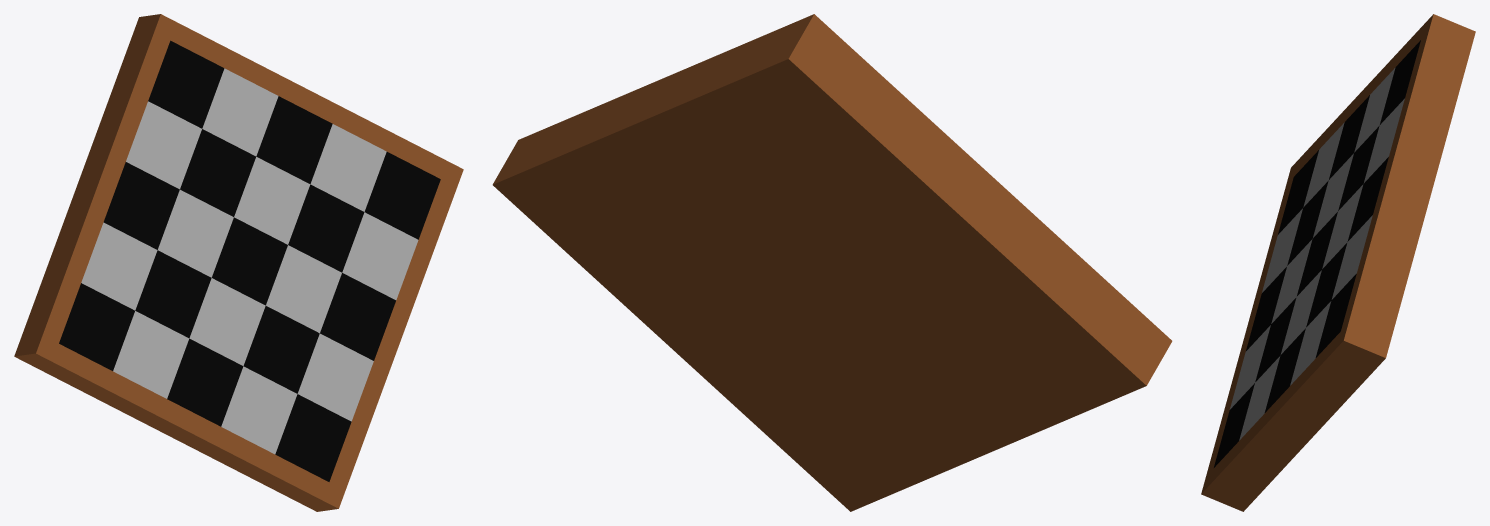
Rendered from ChessModel.glb.
3 renders of one model, left to right at view 1: azimuth 30°, elevation 25°; view 2: azimuth 150°, elevation 25°; view 3: azimuth 270°, elevation 25°, orthographic. The views are drawn at different scales.
Visible parts, largest first — view 1: Xadrez; view 2: Xadrez; view 3: Xadrez.
Part boxes in pixels (<box>): Xadrez: <box>14,14,463,511</box>; Xadrez: <box>492,14,1172,511</box>; Xadrez: <box>1201,14,1475,511</box>.
Bounding box in the file's own units: 1.17 × 1.09 × 0.5861.
